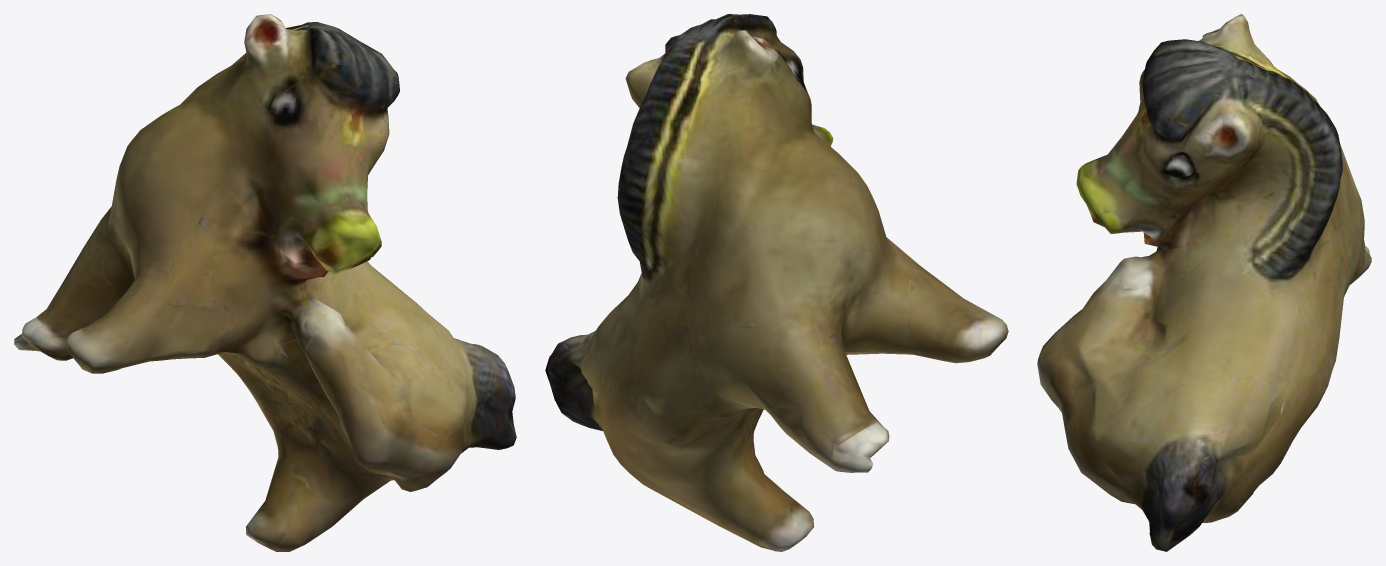
The model's file is hall.glb.
3 renders of one model, left to right at view 1: azimuth 30°, elevation 25°; view 2: azimuth 150°, elevation 25°; view 3: azimuth 270°, elevation 25°, orthographic. The views are drawn at different scales.
Bounding box in the file's own units: 0.2594 × 0.2899 × 0.1754.
1 material, 1 textured.
